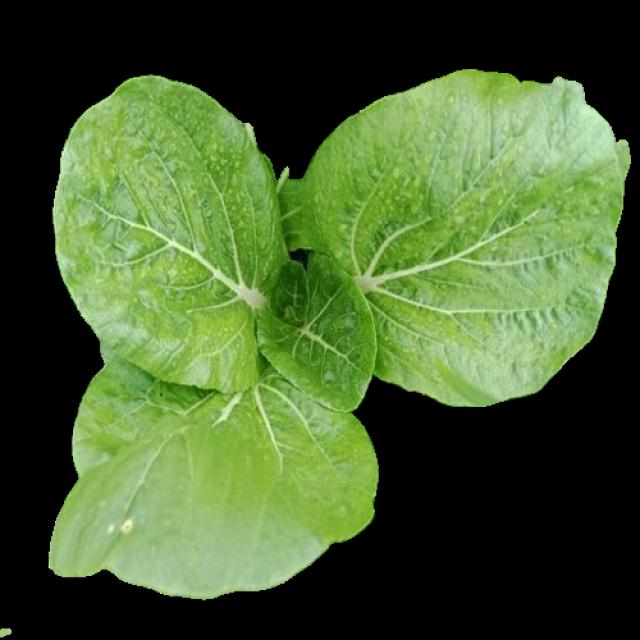mature: (26, 77, 626, 596)
unhealthy: (52, 358, 376, 594)
